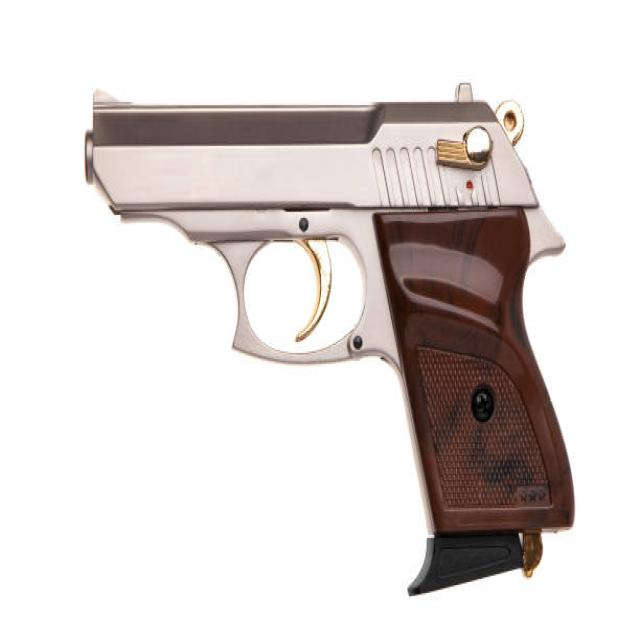pistol: (74, 76, 579, 607)
